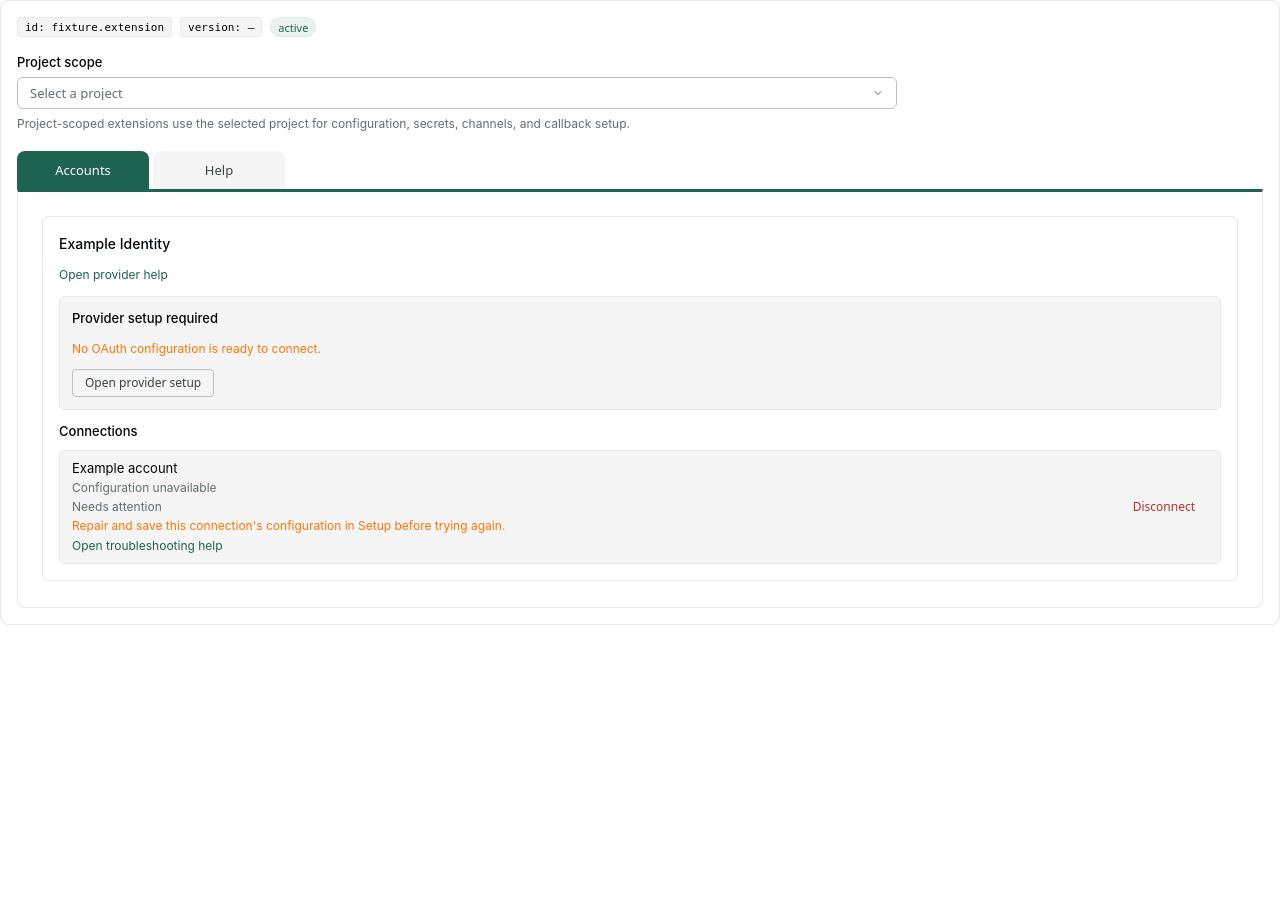
Test: ExtensionDetailPanel marketplace links › switches to declared help and focuses its exact safe anchor
The image size is (1280, 900).
Click the button "Open troubleshooting help": (147, 546) [72,537,223,555]
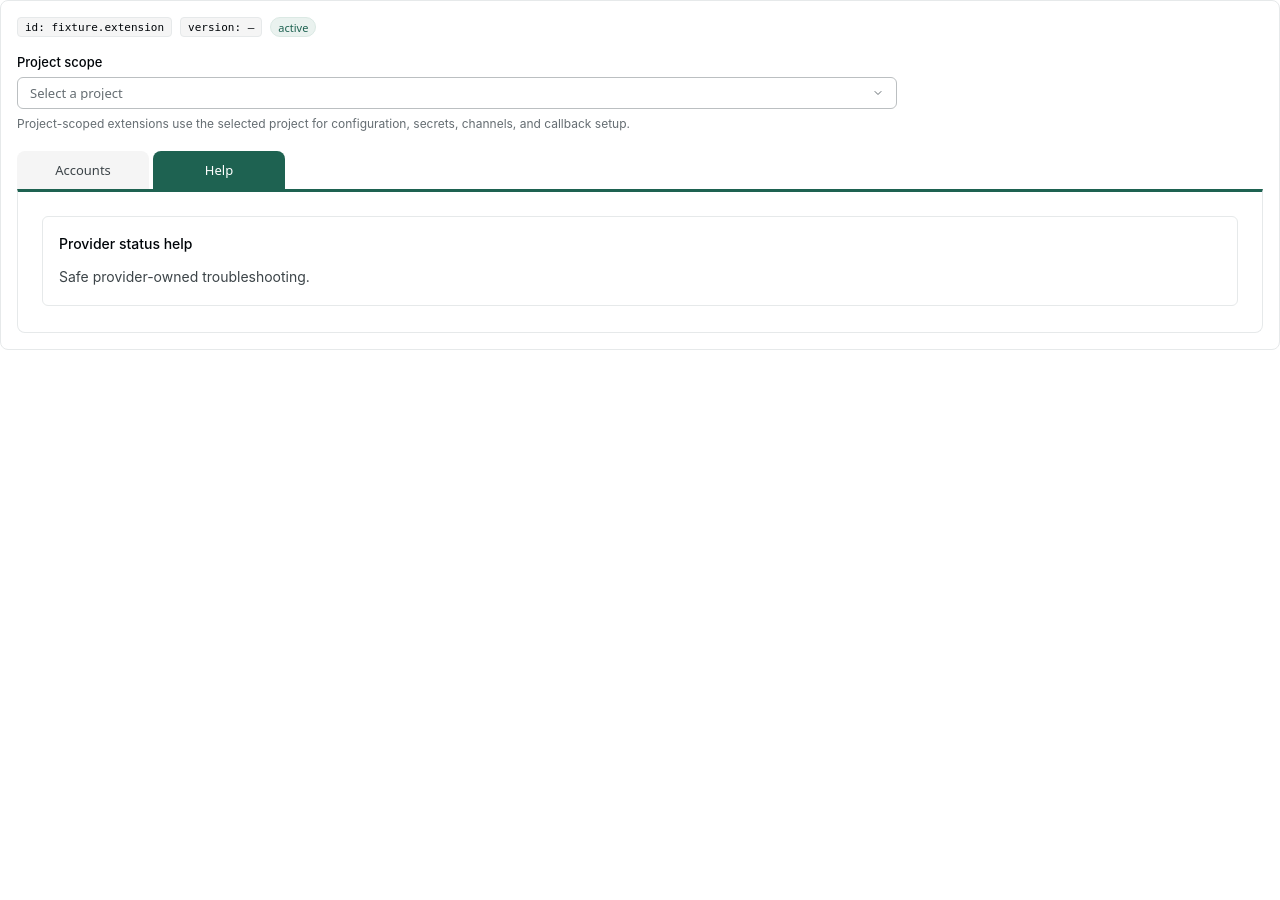
expect the text "Safe provider-owned troubleshooting." is shown: met, box [59,268,310,285]
